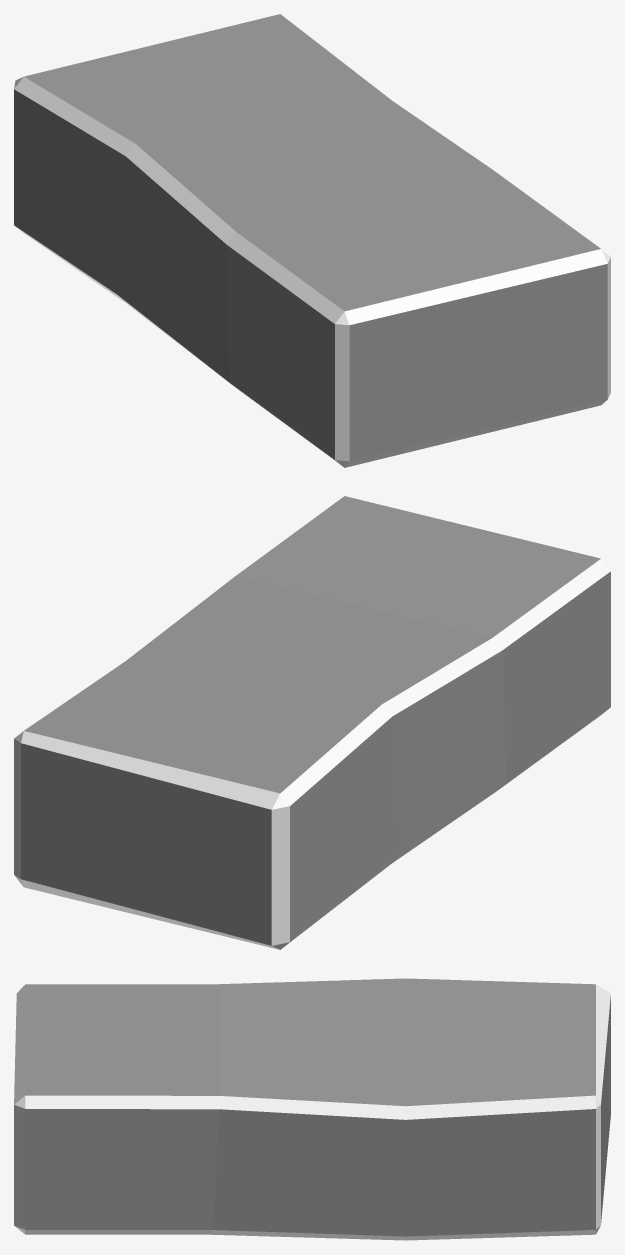
File: kirpich.fbx
3 views of the same model, one above another, from view 1: azimuth 30°, elevation 25°; view 2: azimuth 150°, elevation 25°; view 3: azimuth 270°, elevation 25° (orthographic). The views are drawn at different scales.
Parts seen in each view (by area): view 1: kirpich; view 2: kirpich; view 3: kirpich.
Part boxes in pixels (box(x1,y1,x2,y2)): kirpich: box(14, 14, 610, 467); kirpich: box(14, 496, 610, 949); kirpich: box(14, 978, 610, 1240).
Size of the model in its own units: 61.16 by 35.93 by 125.
